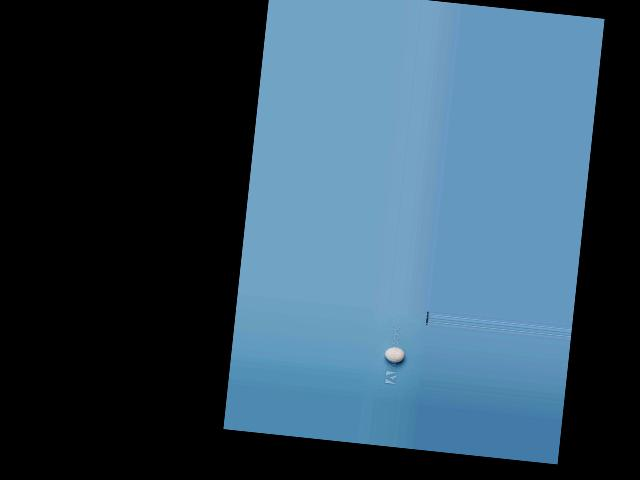egg: (384, 346, 405, 363)
